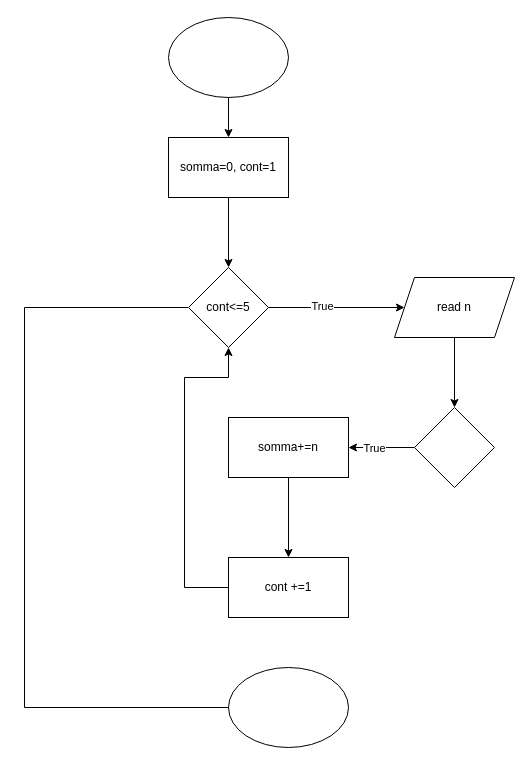
The diagram is 532 pixels wide and 765 high, and some of its shapes have lost their labels. Each missing label, with the centre of its shape:
fine: the point at 288,707
inizio: the point at 228,57
n > 0: the point at 454,447
